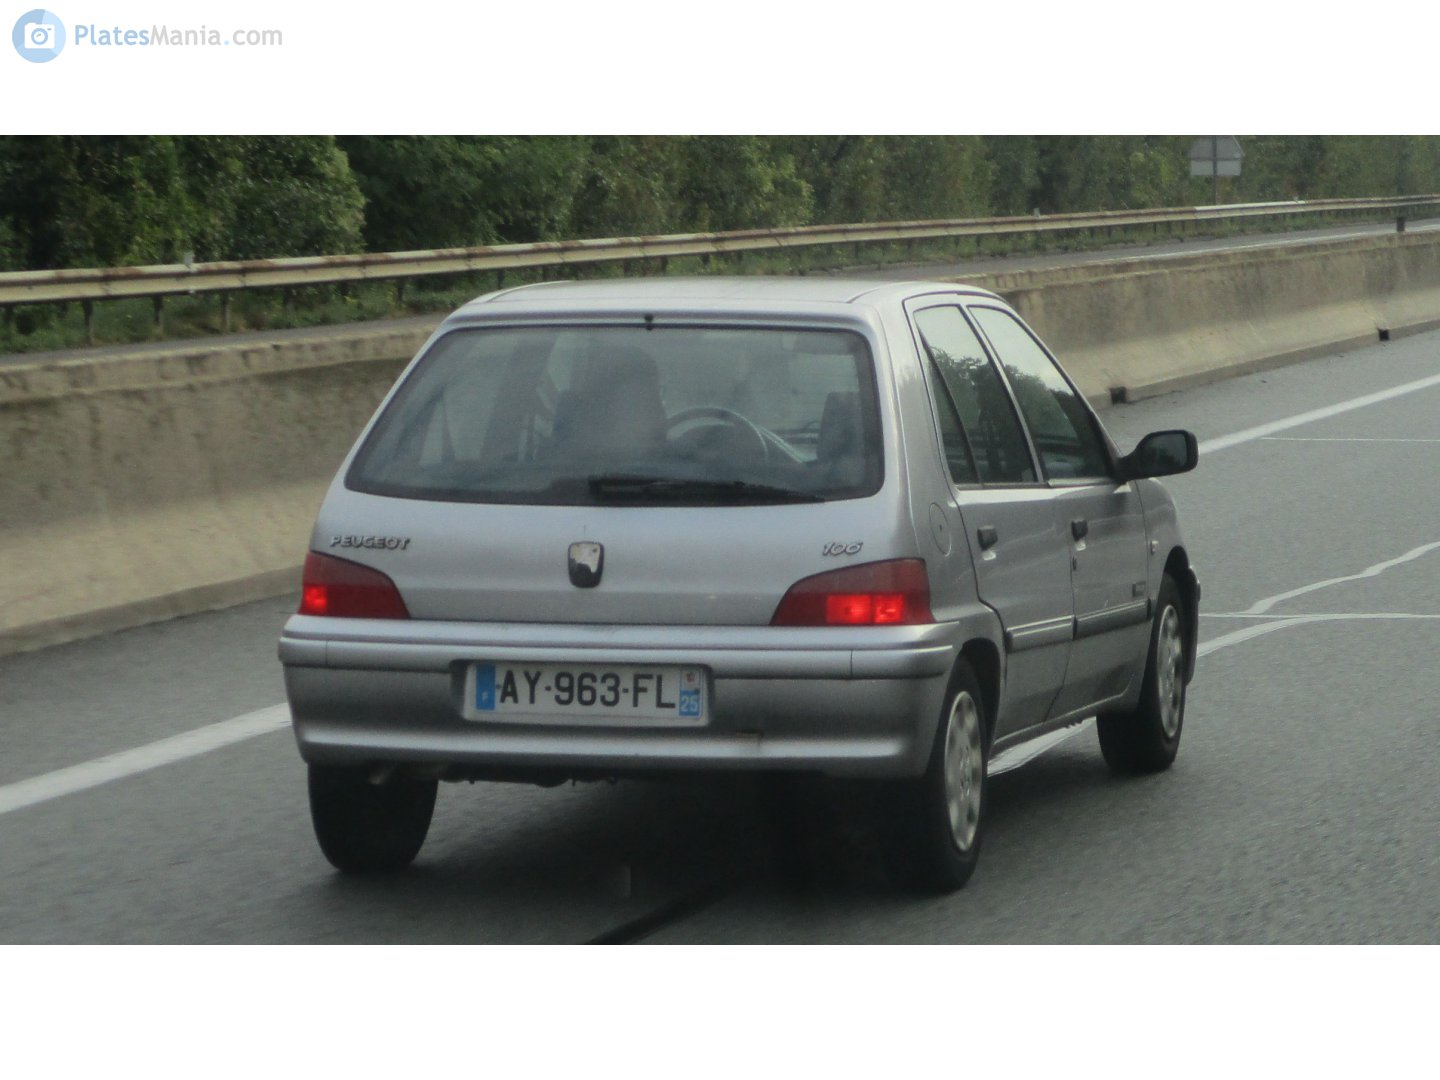licence plate: (470, 651, 706, 723)
